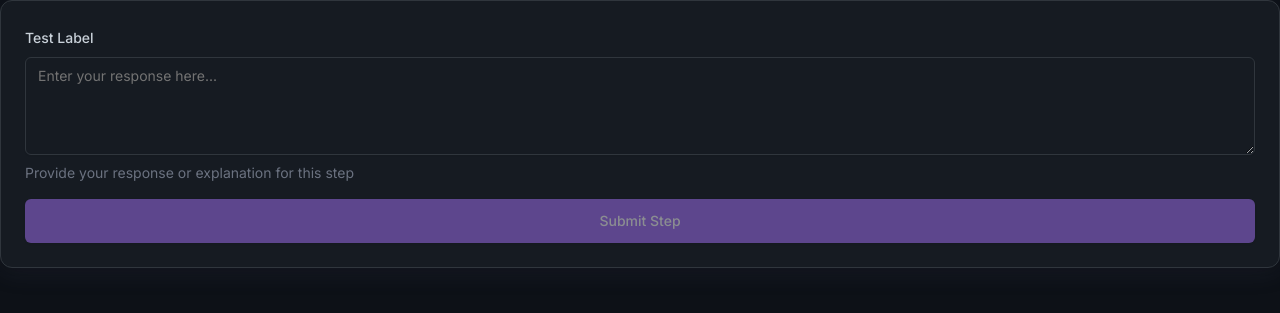
Test: OnboardingSubmissionForm › Error Handling › shows error message when onSubmit throws
The width and height of the screenshot is (1280, 313).
Type "Valid input text" into the text box labelled "Test Label" at (640, 106), box [25, 57, 1255, 155]
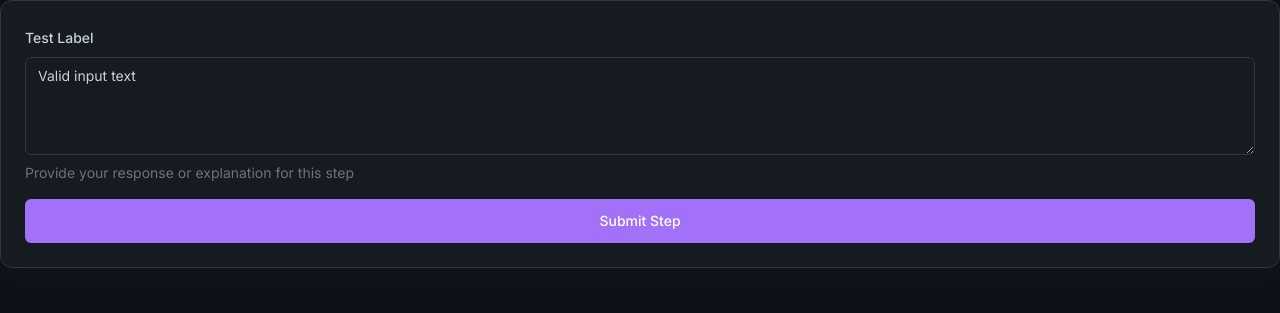
Click the button "Submit Step" at (640, 221), box [25, 199, 1255, 243]
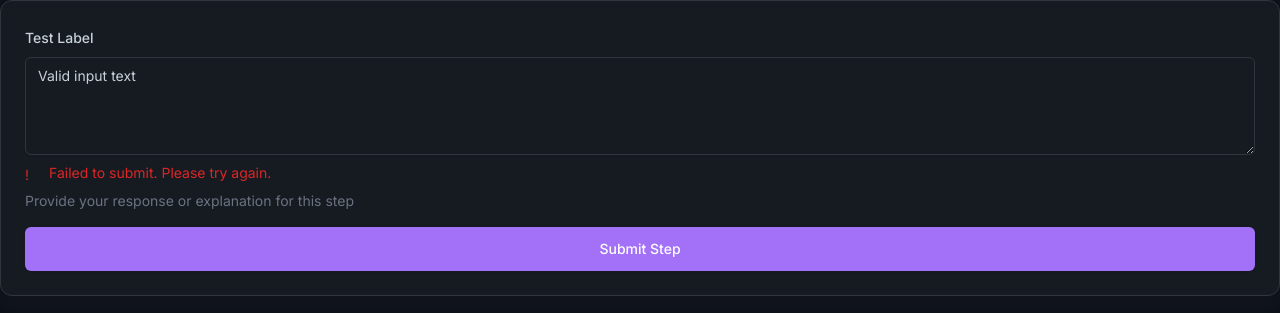
Now the text "Failed to submit. Please try again." is shown, box [49, 163, 271, 183]
